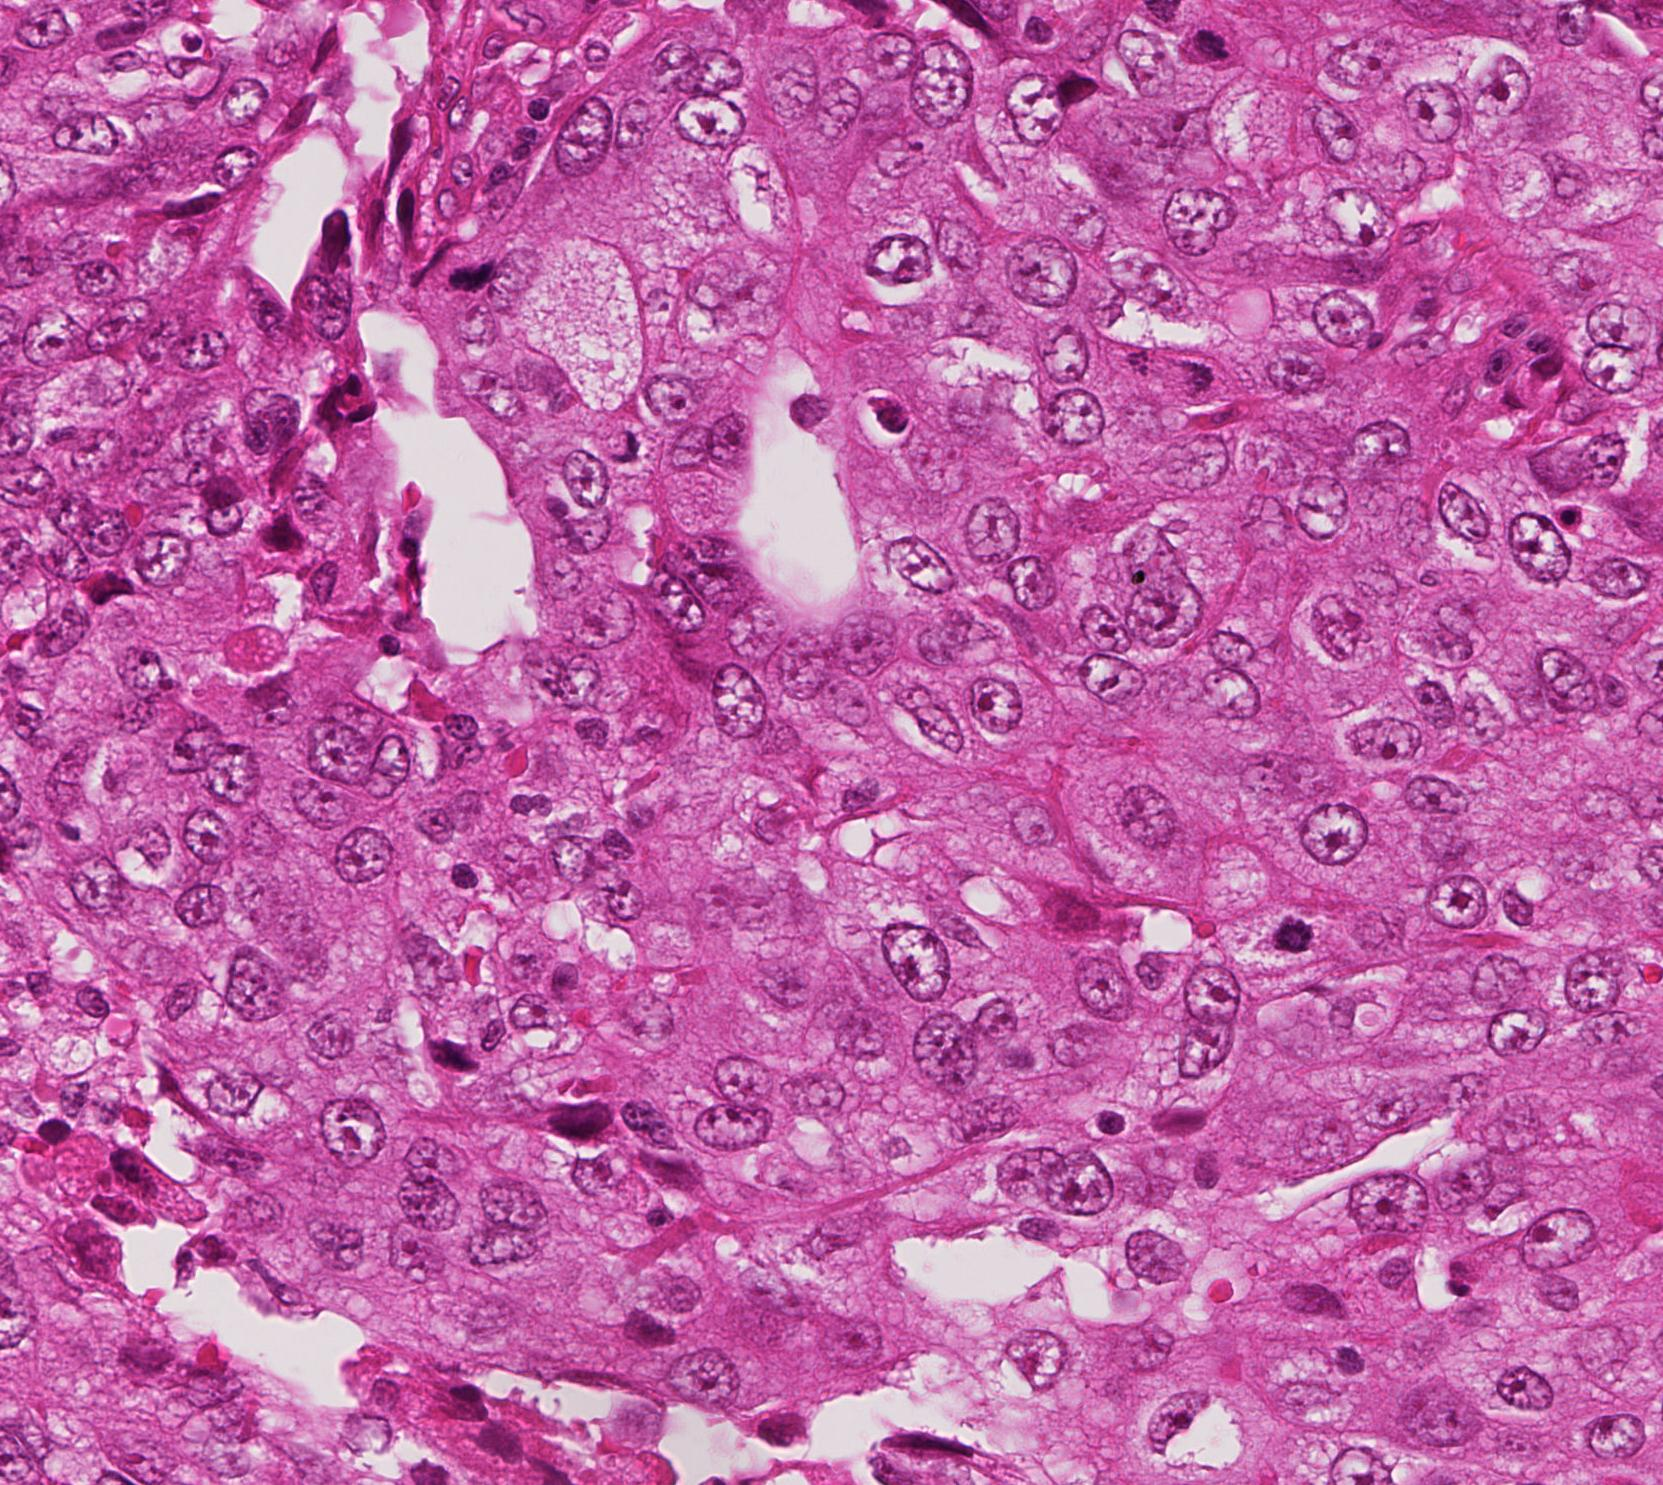mitosis: (1267, 902, 1328, 962), (1180, 14, 1240, 75), (446, 242, 506, 302), (1158, 345, 1219, 406)
